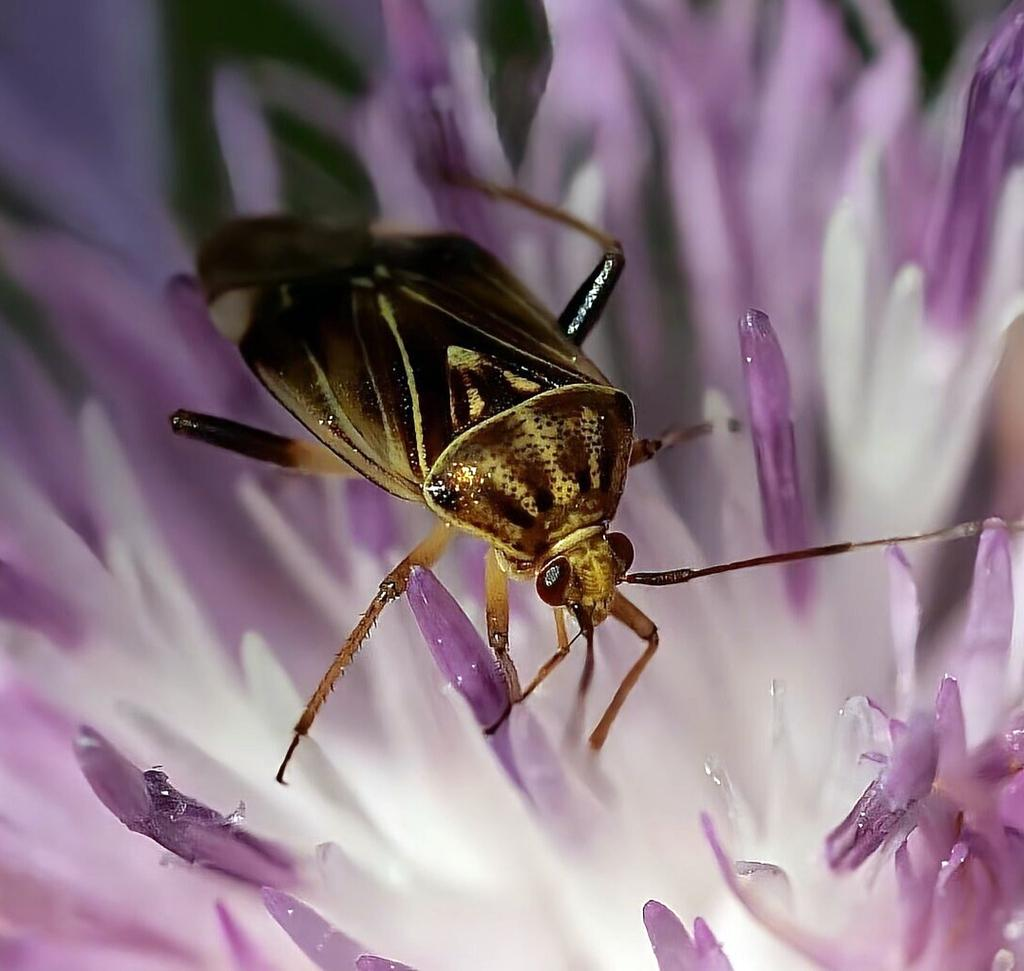plant_bugs: (90, 67, 988, 839)
